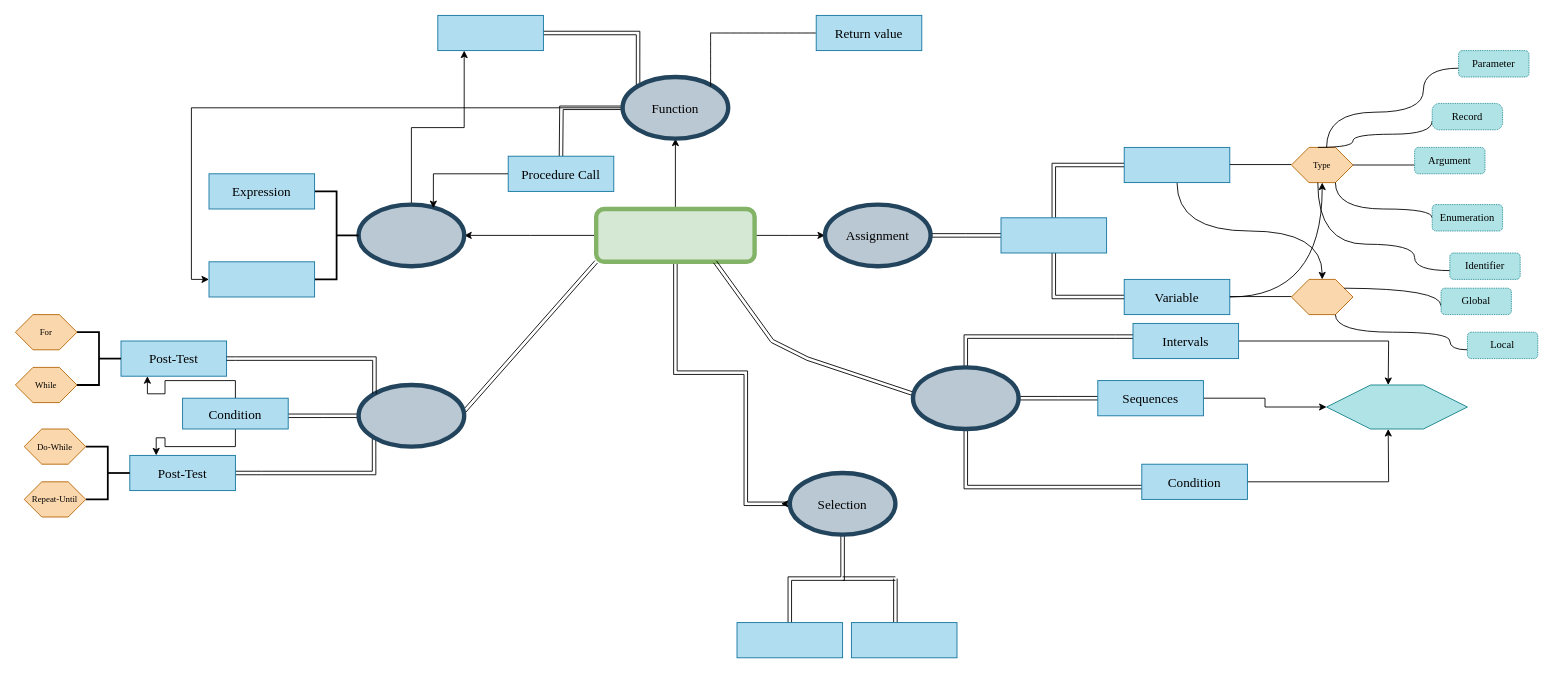
Image size: 1553x673. Some labels were removed from this diagram. The shapes that lost their labels are listed below. From the top down, each one's box as (x1, y1, x2, y2) in pixels, then its label:
(437, 15, 543, 51): Function Call
(1123, 147, 1230, 183): Constant
(356, 202, 466, 268): Procedure
(594, 206, 756, 264): Ruby Language
(1000, 217, 1107, 253): Value
(208, 261, 315, 297): Side Effect
(1291, 279, 1353, 315): Scope
(356, 382, 466, 448): Repetion
(910, 365, 1020, 431): Range
(1326, 384, 1467, 429): Start Point End Point
(736, 622, 843, 658): Case
(851, 622, 957, 658): IF Statement
